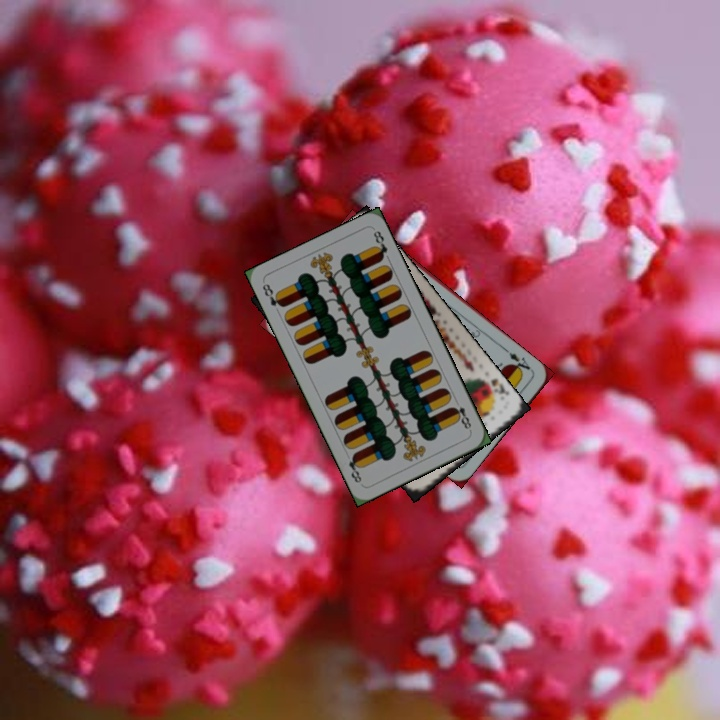E8: (258, 279, 287, 310), (448, 402, 474, 434)
EA: (501, 345, 536, 377)
SK: (477, 374, 511, 398)
